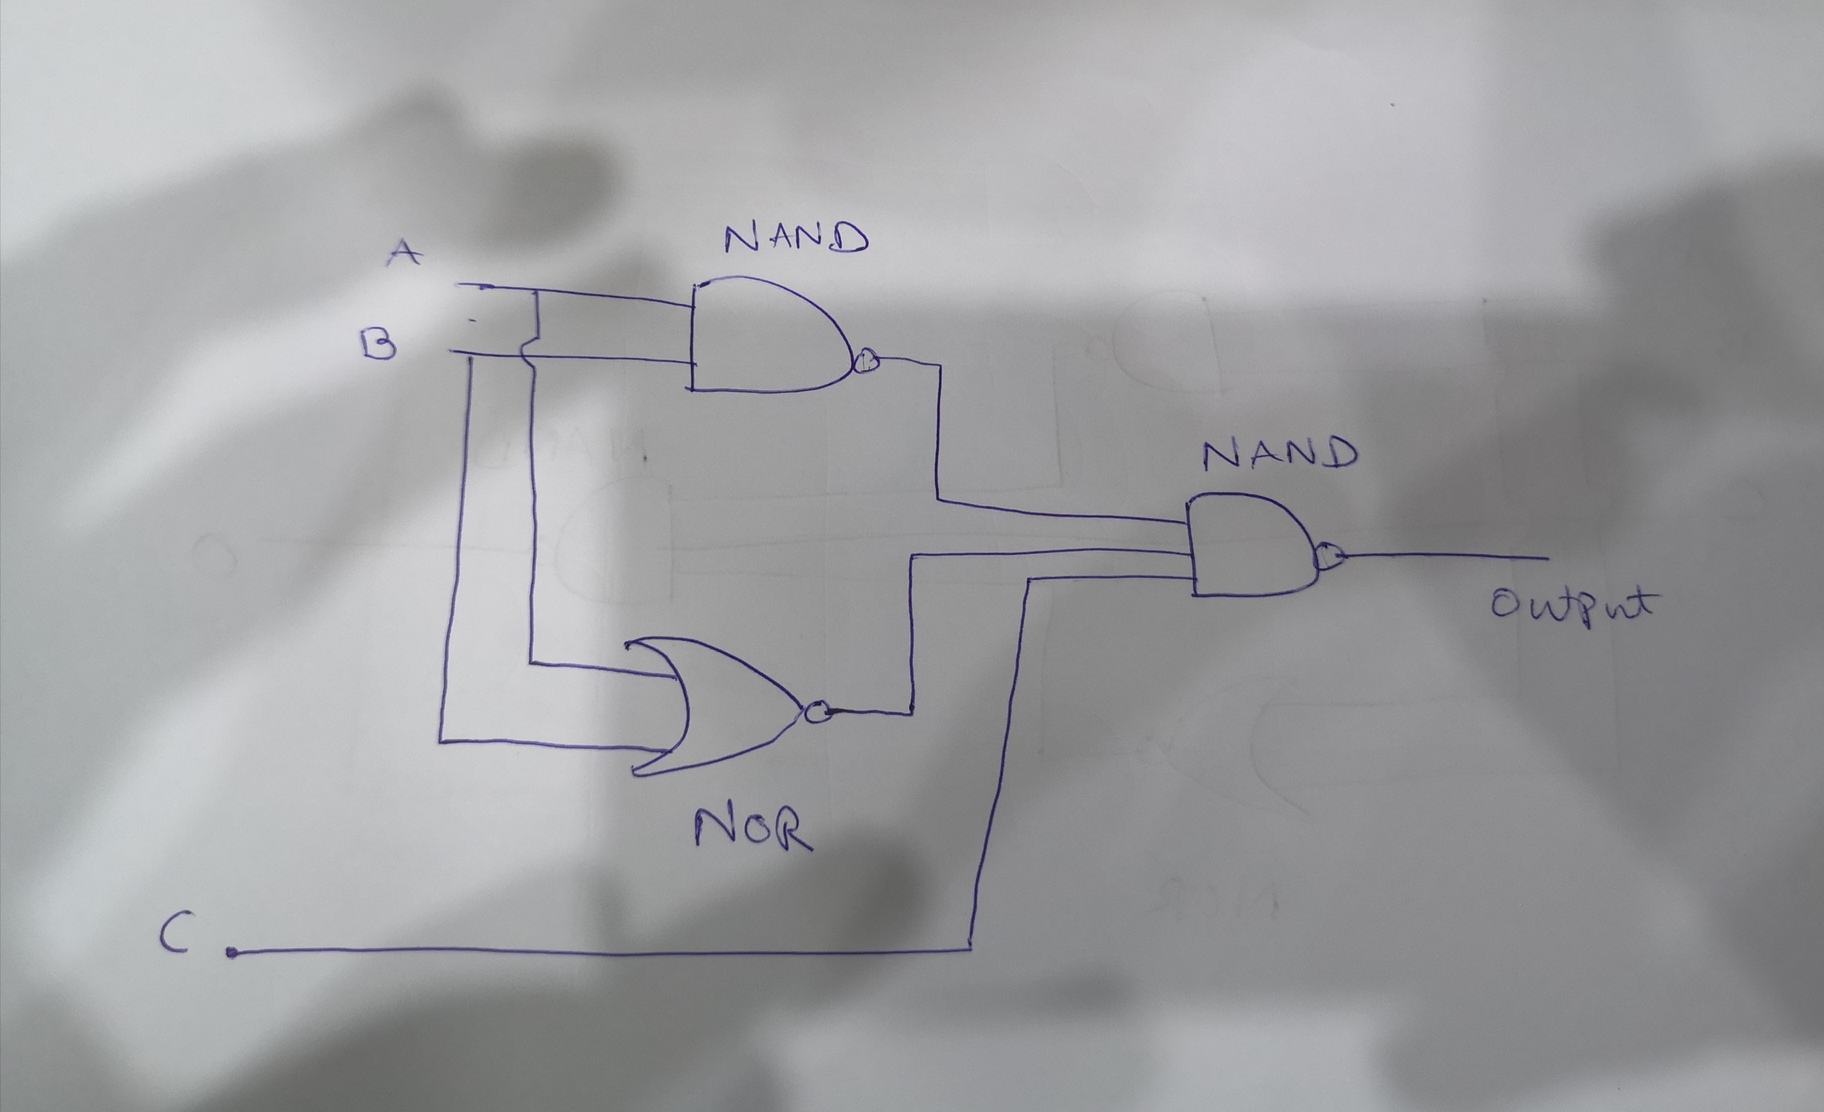crossover: (512, 333, 545, 374)
junction: (896, 695, 926, 728), (956, 938, 982, 964), (924, 353, 951, 376), (926, 486, 948, 510), (1018, 566, 1038, 591), (524, 280, 546, 299), (521, 652, 541, 673), (431, 732, 449, 750), (463, 346, 481, 365), (902, 548, 920, 565)
nand: (680, 266, 883, 400), (1179, 487, 1356, 607)
nor: (619, 632, 842, 785)
terminal: (218, 941, 245, 965), (447, 273, 472, 296), (1532, 548, 1558, 566), (442, 342, 456, 358)
text: (1489, 578, 1659, 634), (691, 799, 817, 859), (1203, 432, 1361, 477), (720, 216, 872, 259), (155, 902, 197, 956), (354, 323, 399, 363), (383, 234, 422, 270)
